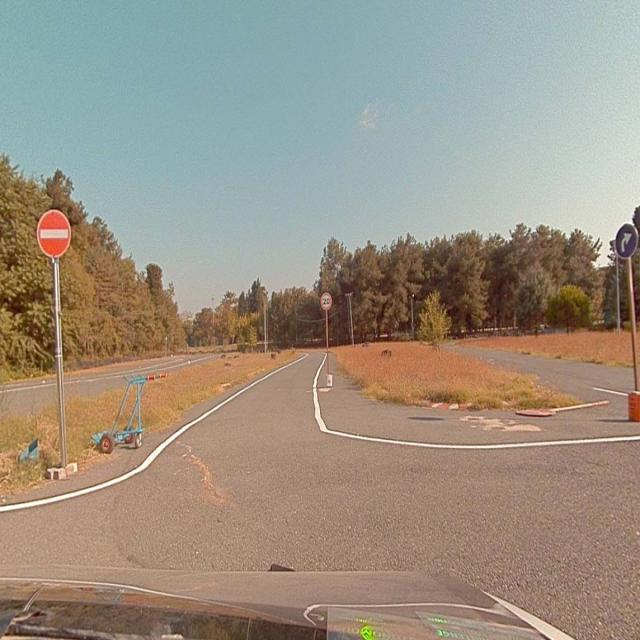20: (321, 292, 332, 310)
girisyok: (35, 209, 71, 257)
sag: (615, 224, 638, 256)
